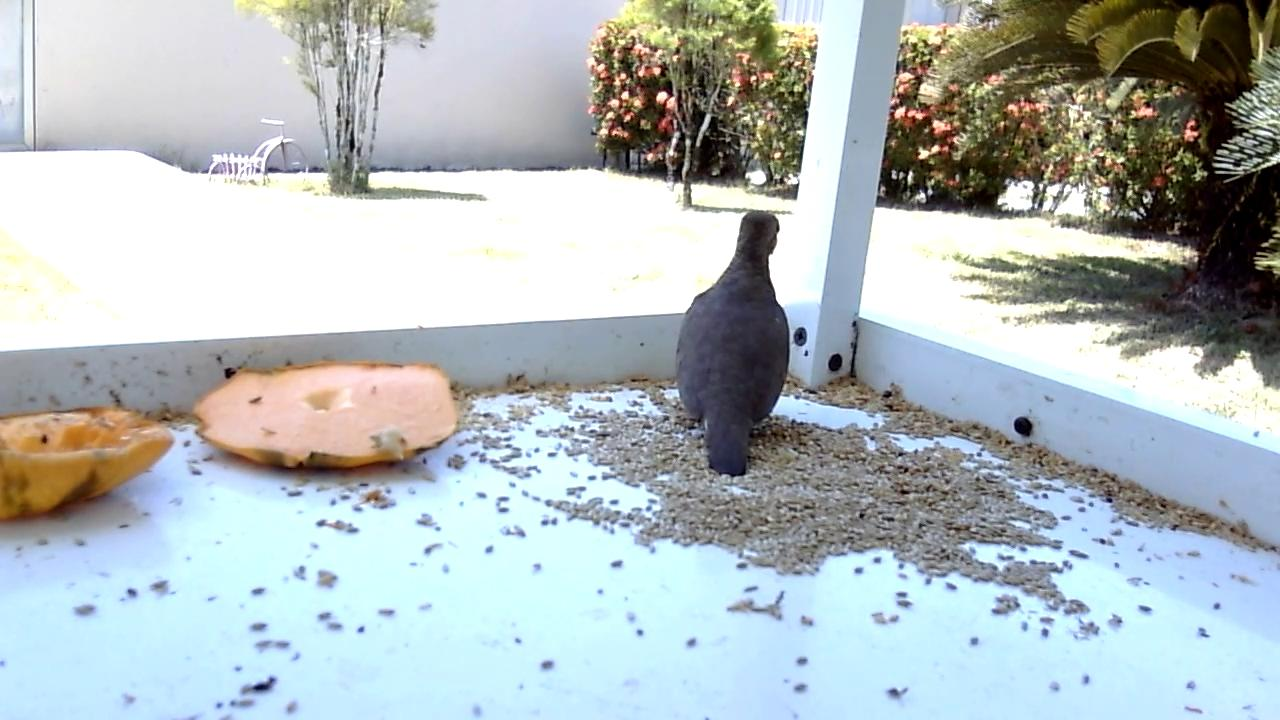rolinha: (674, 209, 794, 479)
